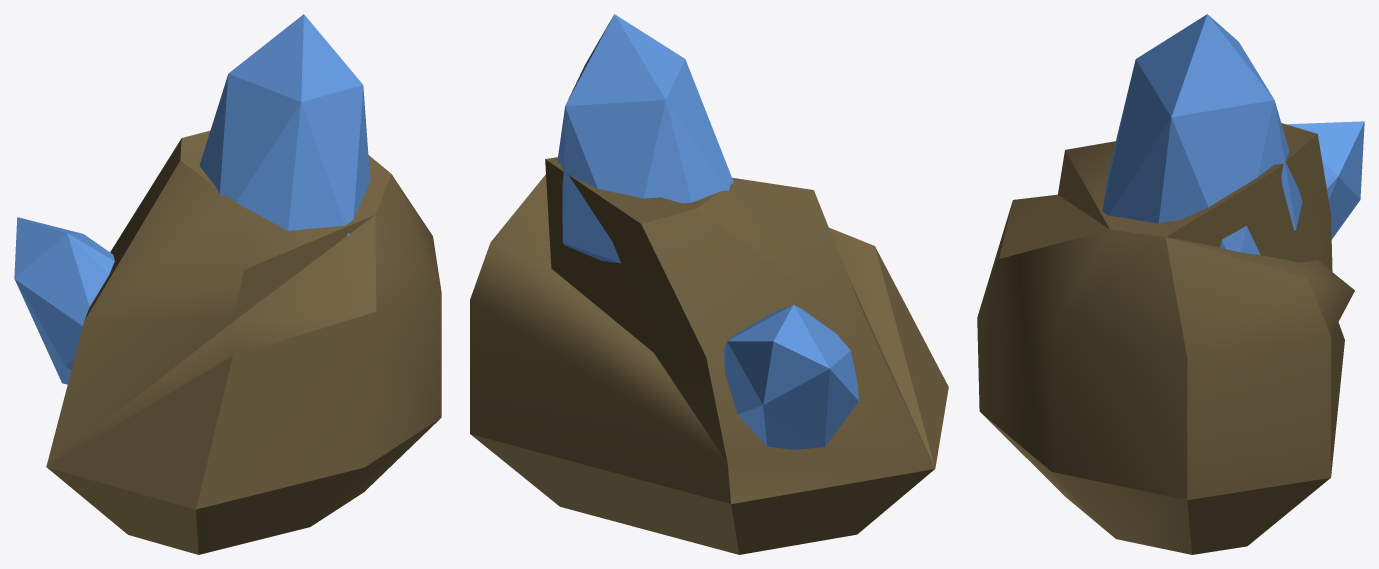
File: cry_ore_blue2.fbx
3 views of the same model, side by side, from view 1: azimuth 30°, elevation 25°; view 2: azimuth 150°, elevation 25°; view 3: azimuth 270°, elevation 25° (orthographic). The views are drawn at different scales.
Parts seen in each view (by area): view 1: cry_ore_blue2; view 2: cry_ore_blue2; view 3: cry_ore_blue2.
Part boxes in pixels (x1,y1,x2,y2): cry_ore_blue2: (14, 14, 441, 554); cry_ore_blue2: (470, 14, 948, 554); cry_ore_blue2: (977, 14, 1364, 554).
Bounding box in the file's own units: 1.81 × 1.97 × 1.35.
